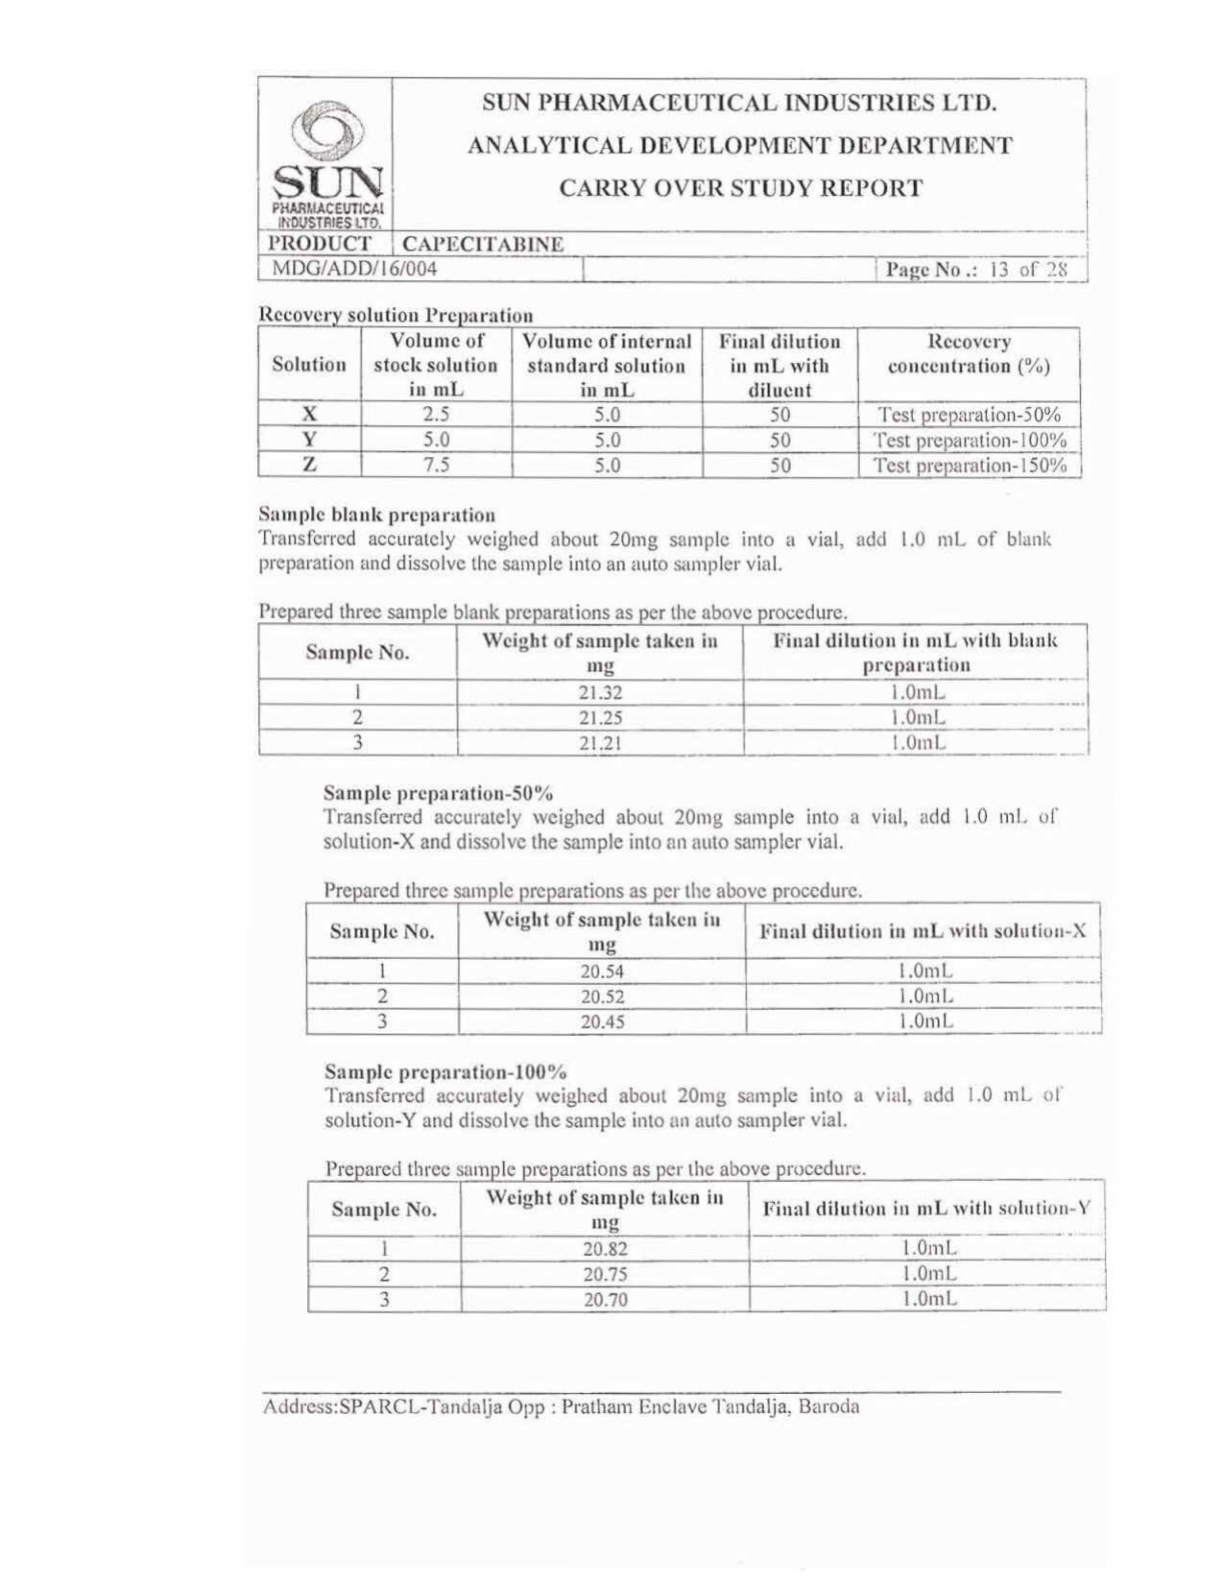full_lined: (257, 324, 1084, 479), (257, 622, 1092, 757), (306, 1179, 1108, 1312), (303, 901, 1104, 1035)
merged_cells: (255, 75, 1092, 284)
